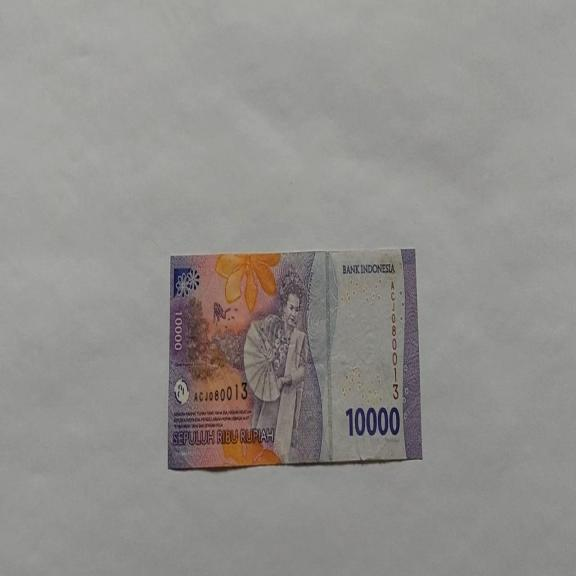Kertas: (167, 247, 423, 470)
